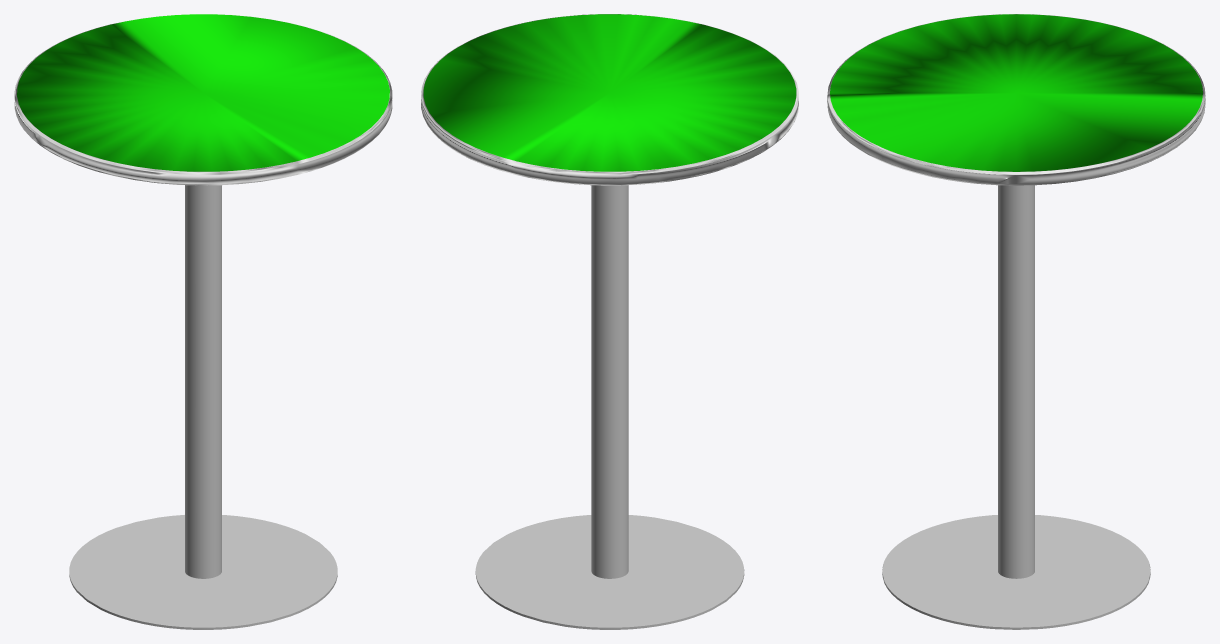
Rendered from tall_table_colered.fbx.
The picture shows the model from 3 angles, left to right: view 1: azimuth 30°, elevation 25°; view 2: azimuth 150°, elevation 25°; view 3: azimuth 270°, elevation 25°; orthographic projection.
Visible parts, largest first — view 1: Body2, Body1; view 2: Body2, Body1; view 3: Body2, Body1.
Part boxes in pixels (left/top/right/bottom): Body2: left=14, top=14, right=392, bottom=185; Body1: left=69, top=185, right=337, bottom=629; Body2: left=421, top=14, right=798, bottom=185; Body1: left=475, top=185, right=744, bottom=629; Body2: left=827, top=14, right=1205, bottom=185; Body1: left=882, top=185, right=1150, bottom=629.
Bounding box in the file's own units: 76 × 107 × 76.
